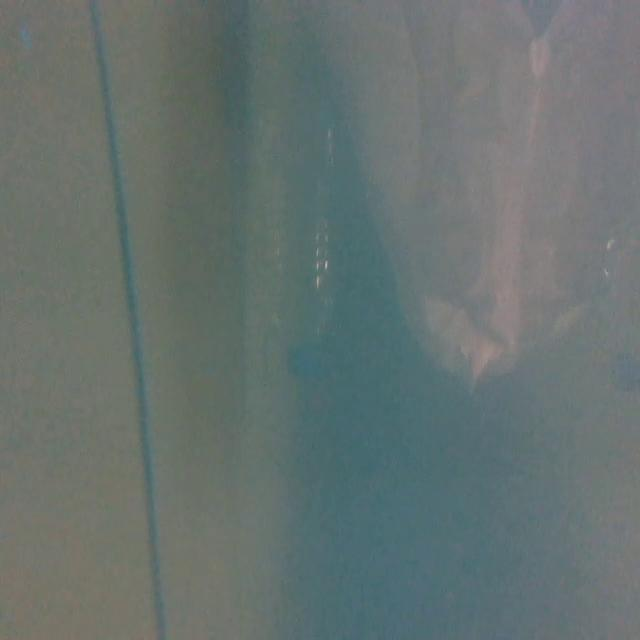plastic bags: (326, 0, 639, 389)
plastic bottle: (258, 110, 350, 382)
